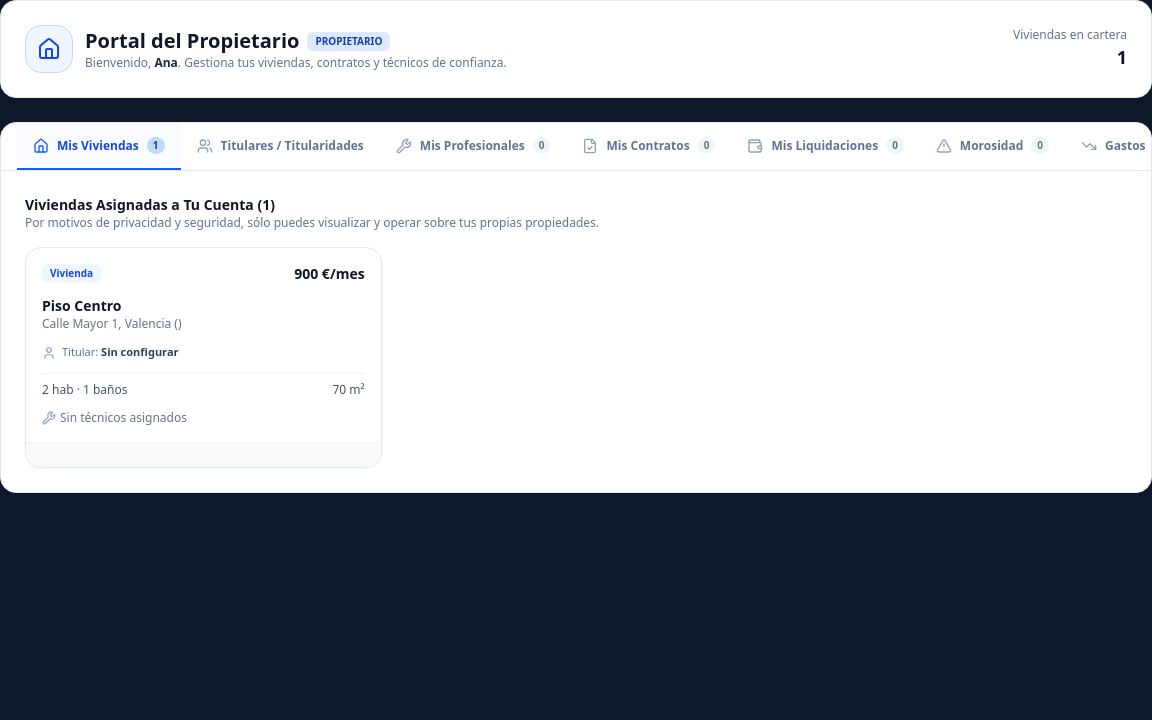
Scenario: portal: alta de titular › la búsqueda va al endpoint con el token y el cuerpo correctos
Click the button "Titulares / Titularidades". click: [280, 147]
box: [180,123,380,170]
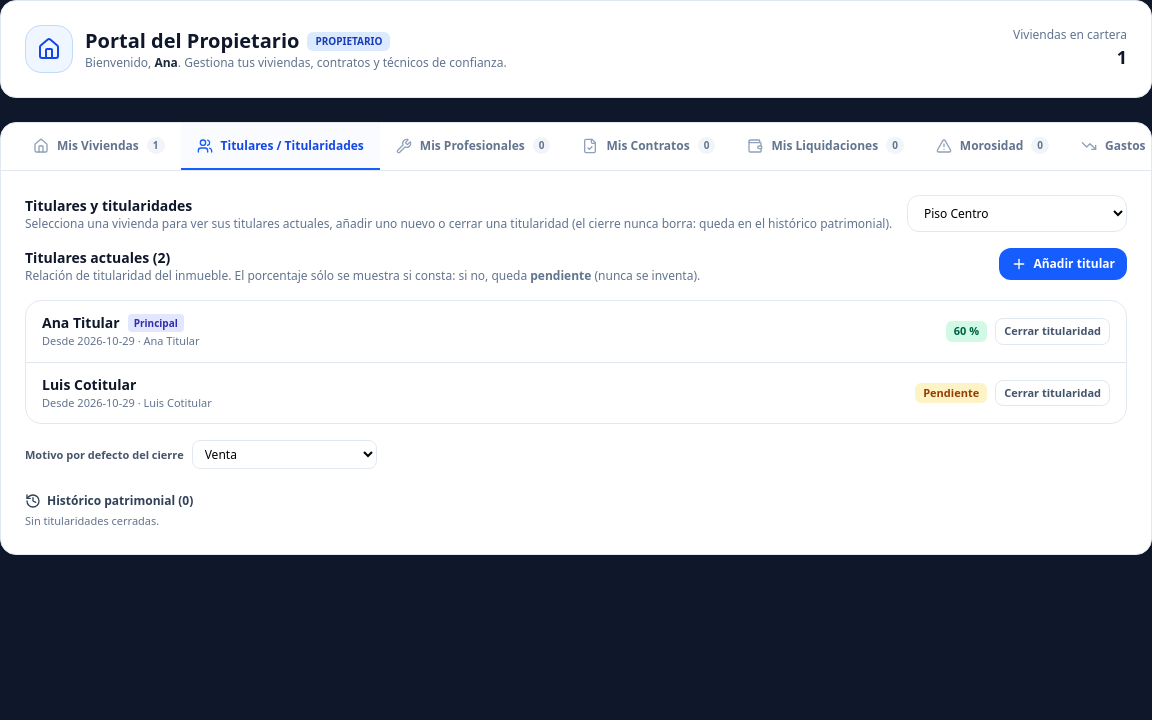
Click the button "Añadir titular". click: [1063, 264]
box: [999,248,1127,280]
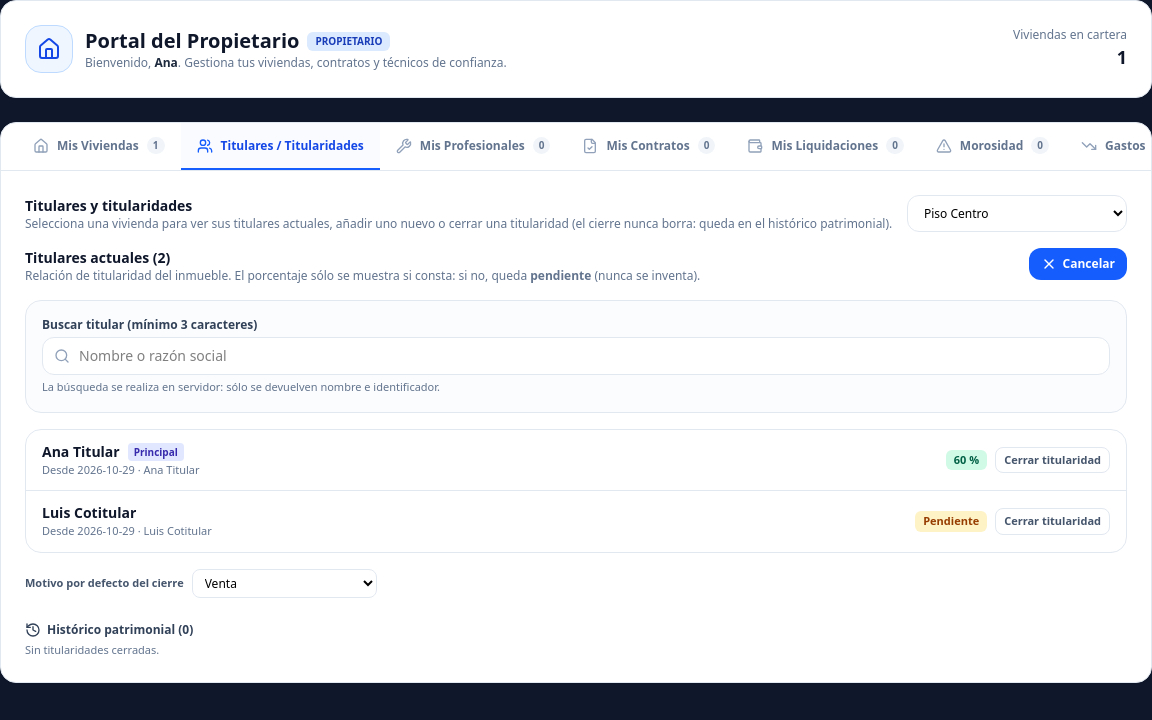
Type "mar" into the field labelled "Buscar titular (mínimo 3 caracteres)". click: [576, 356]
box: [42,337,1110,375]
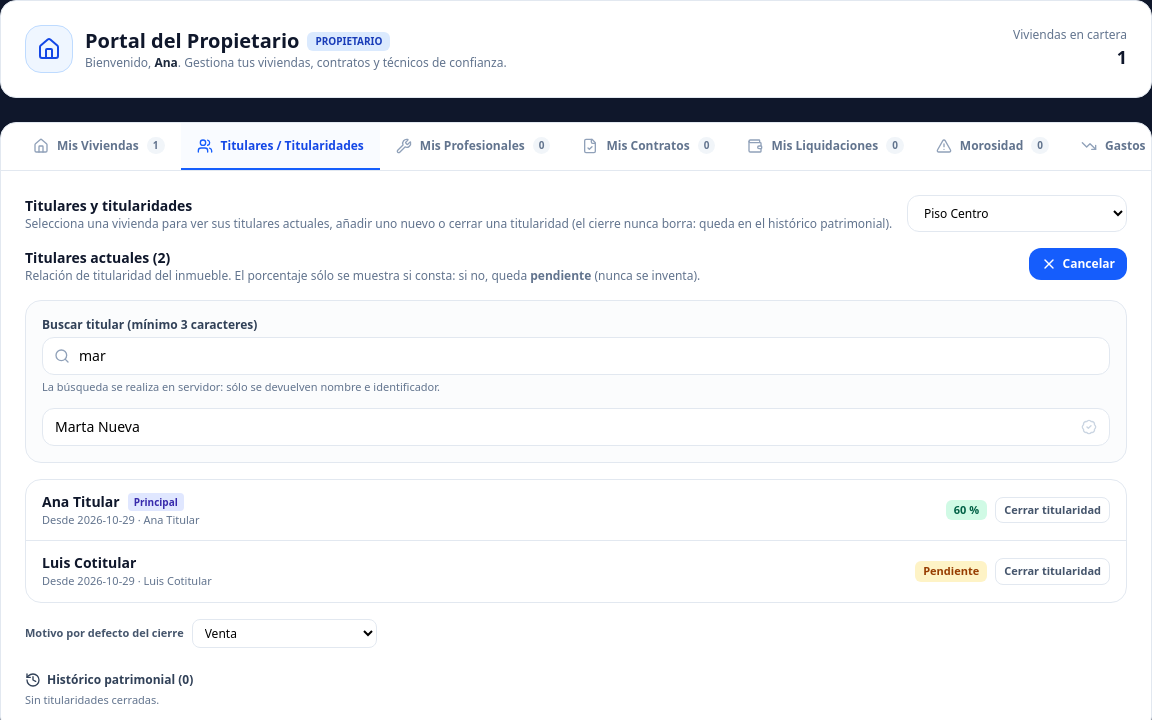
Expected: the text "Marta Nueva" is shown, [55,417,140,437]
